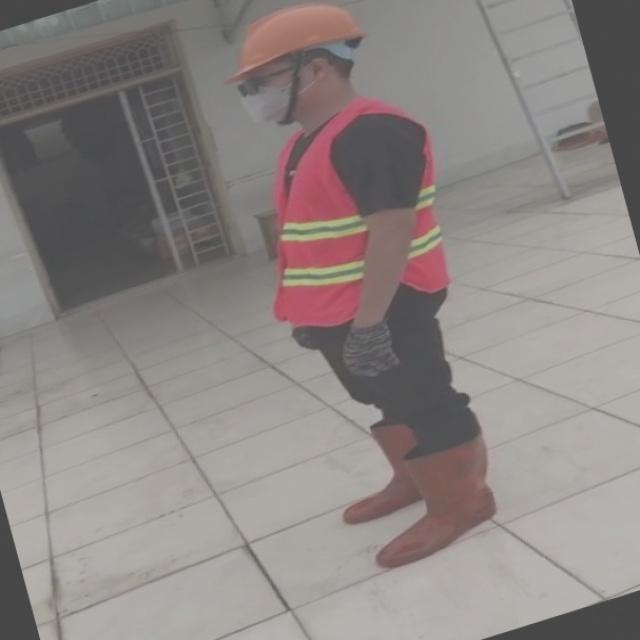Capacete: (226, 3, 365, 83)
Colete: (274, 98, 407, 326)
Oculos: (238, 67, 291, 96)
